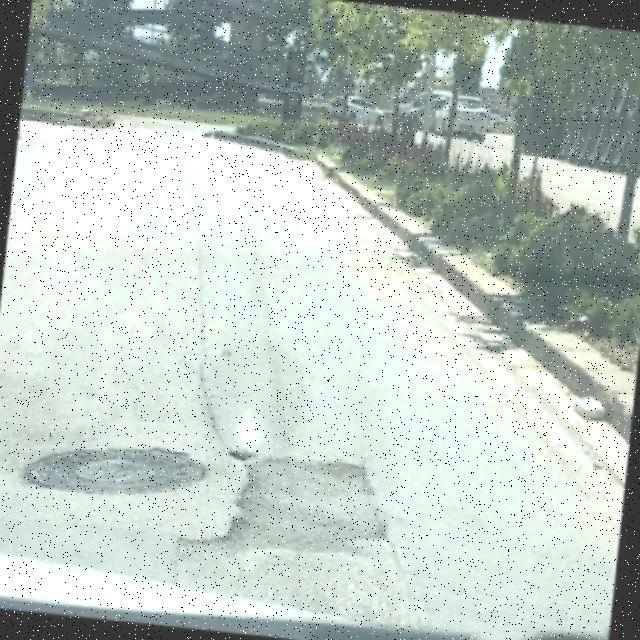Pothole: (178, 451, 396, 552)
